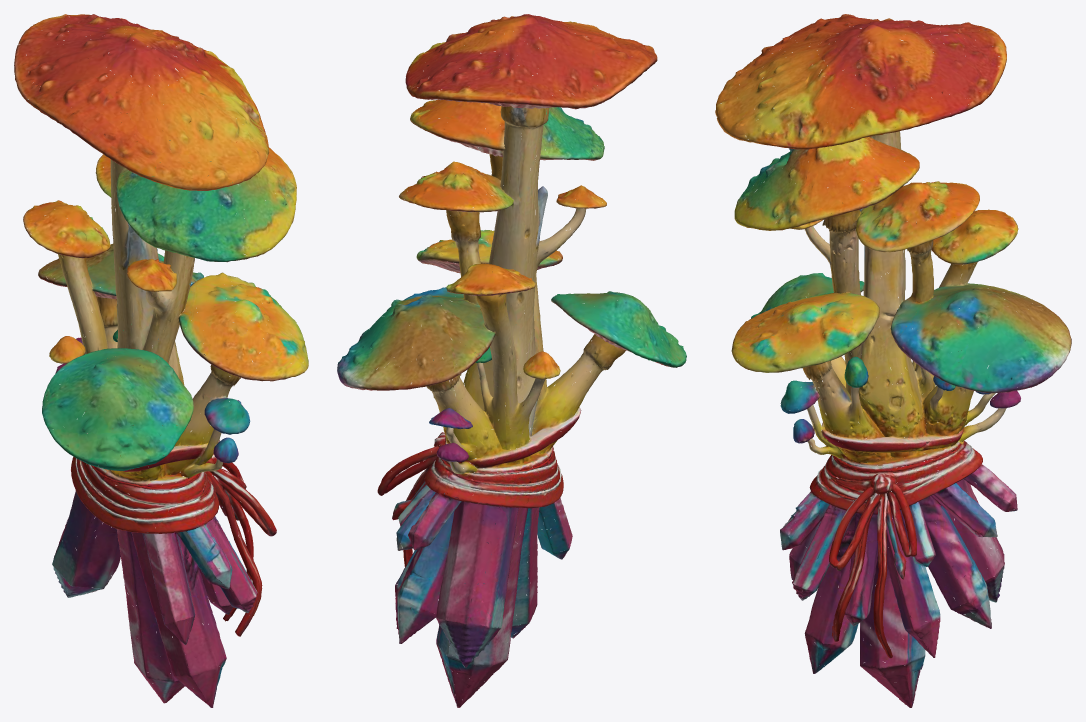
The model's file is mushroom.glb.
The picture shows the model from 3 angles, left to right: view 1: azimuth 30°, elevation 25°; view 2: azimuth 150°, elevation 25°; view 3: azimuth 270°, elevation 25°; orthographic projection. The views are drawn at different scales.
Parts seen in each view (by area): view 1: low poli; view 2: low poli; view 3: low poli.
Part boxes in pixels (x1,y1,x2,y2): low poli: (14, 14, 308, 707); low poli: (337, 14, 686, 707); low poli: (715, 14, 1071, 707).
Bounding box in the file's own units: 0.3634 × 0.9783 × 0.4801.
1 material, 1 textured.
